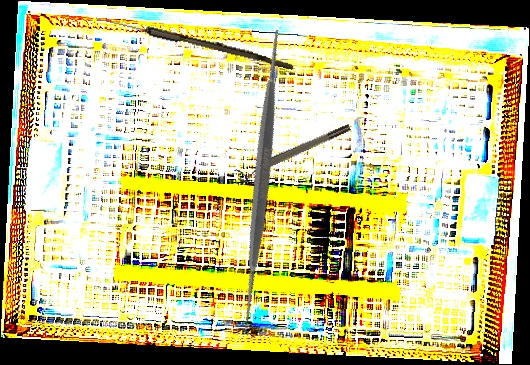Fixation Ring: (234, 122, 354, 185)
Spatula Surgical: (105, 20, 418, 332)
Surgical Spoon: (94, 14, 295, 70)
